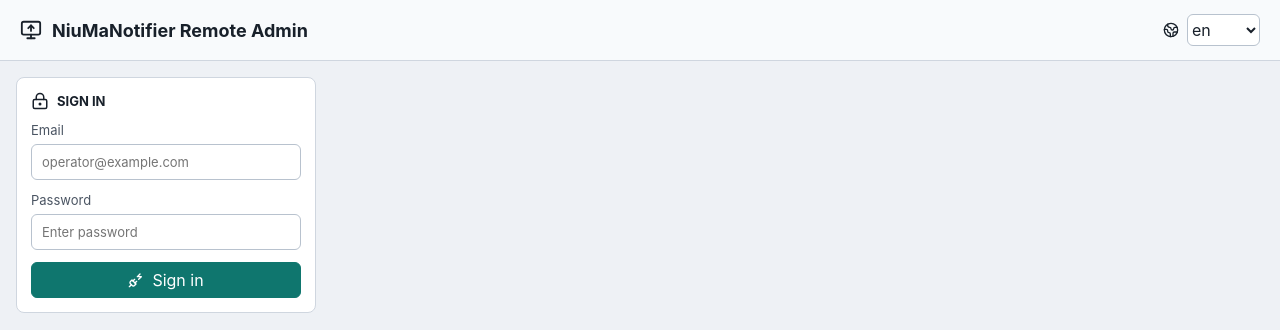
Scenario: App auth state › opens the admin device management page after login without exposing the remote console
In the field labelled "Email": {"x": 166, "y": 162} [31,144,301,180], type "admin@example.com"
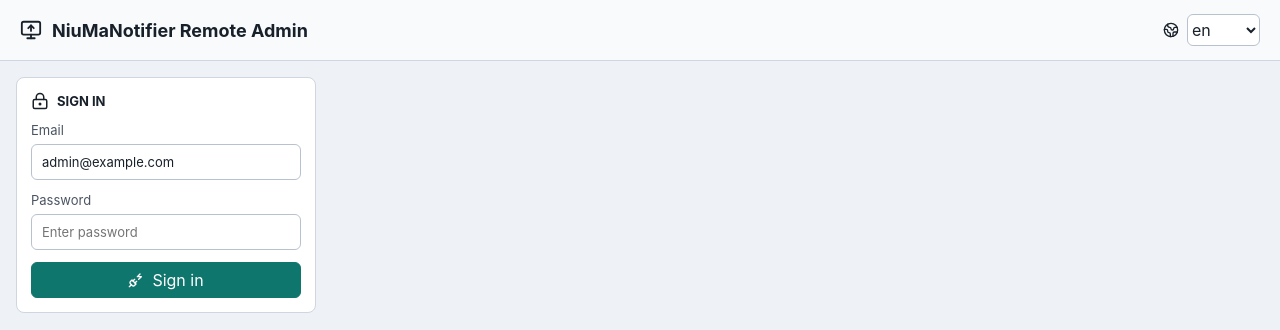
In the password field labelled "Password": {"x": 166, "y": 232} [31,214,301,250], type "password"
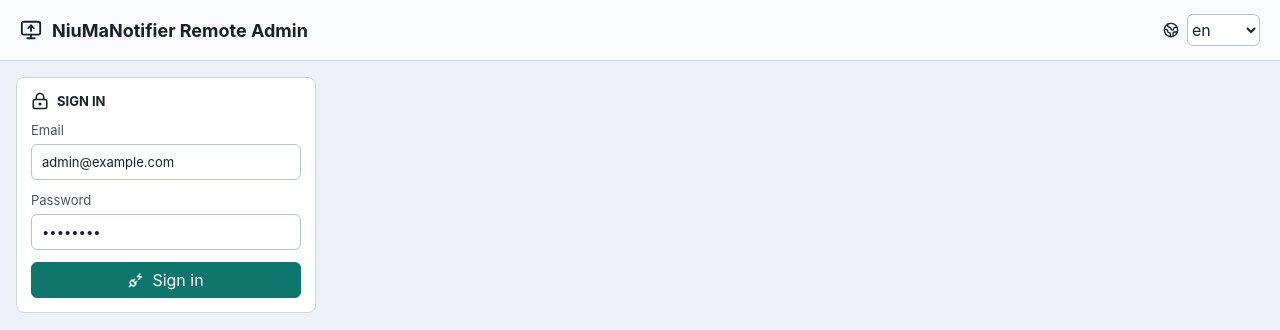
Click the button "Sign in": {"x": 166, "y": 280} [31,262,301,298]
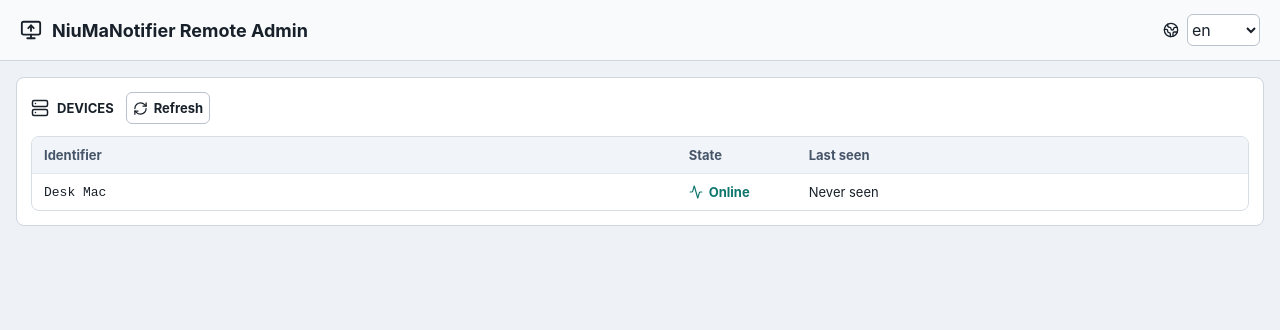
Expected: the text "Desk Mac" is shown, [44,184,106,200]
